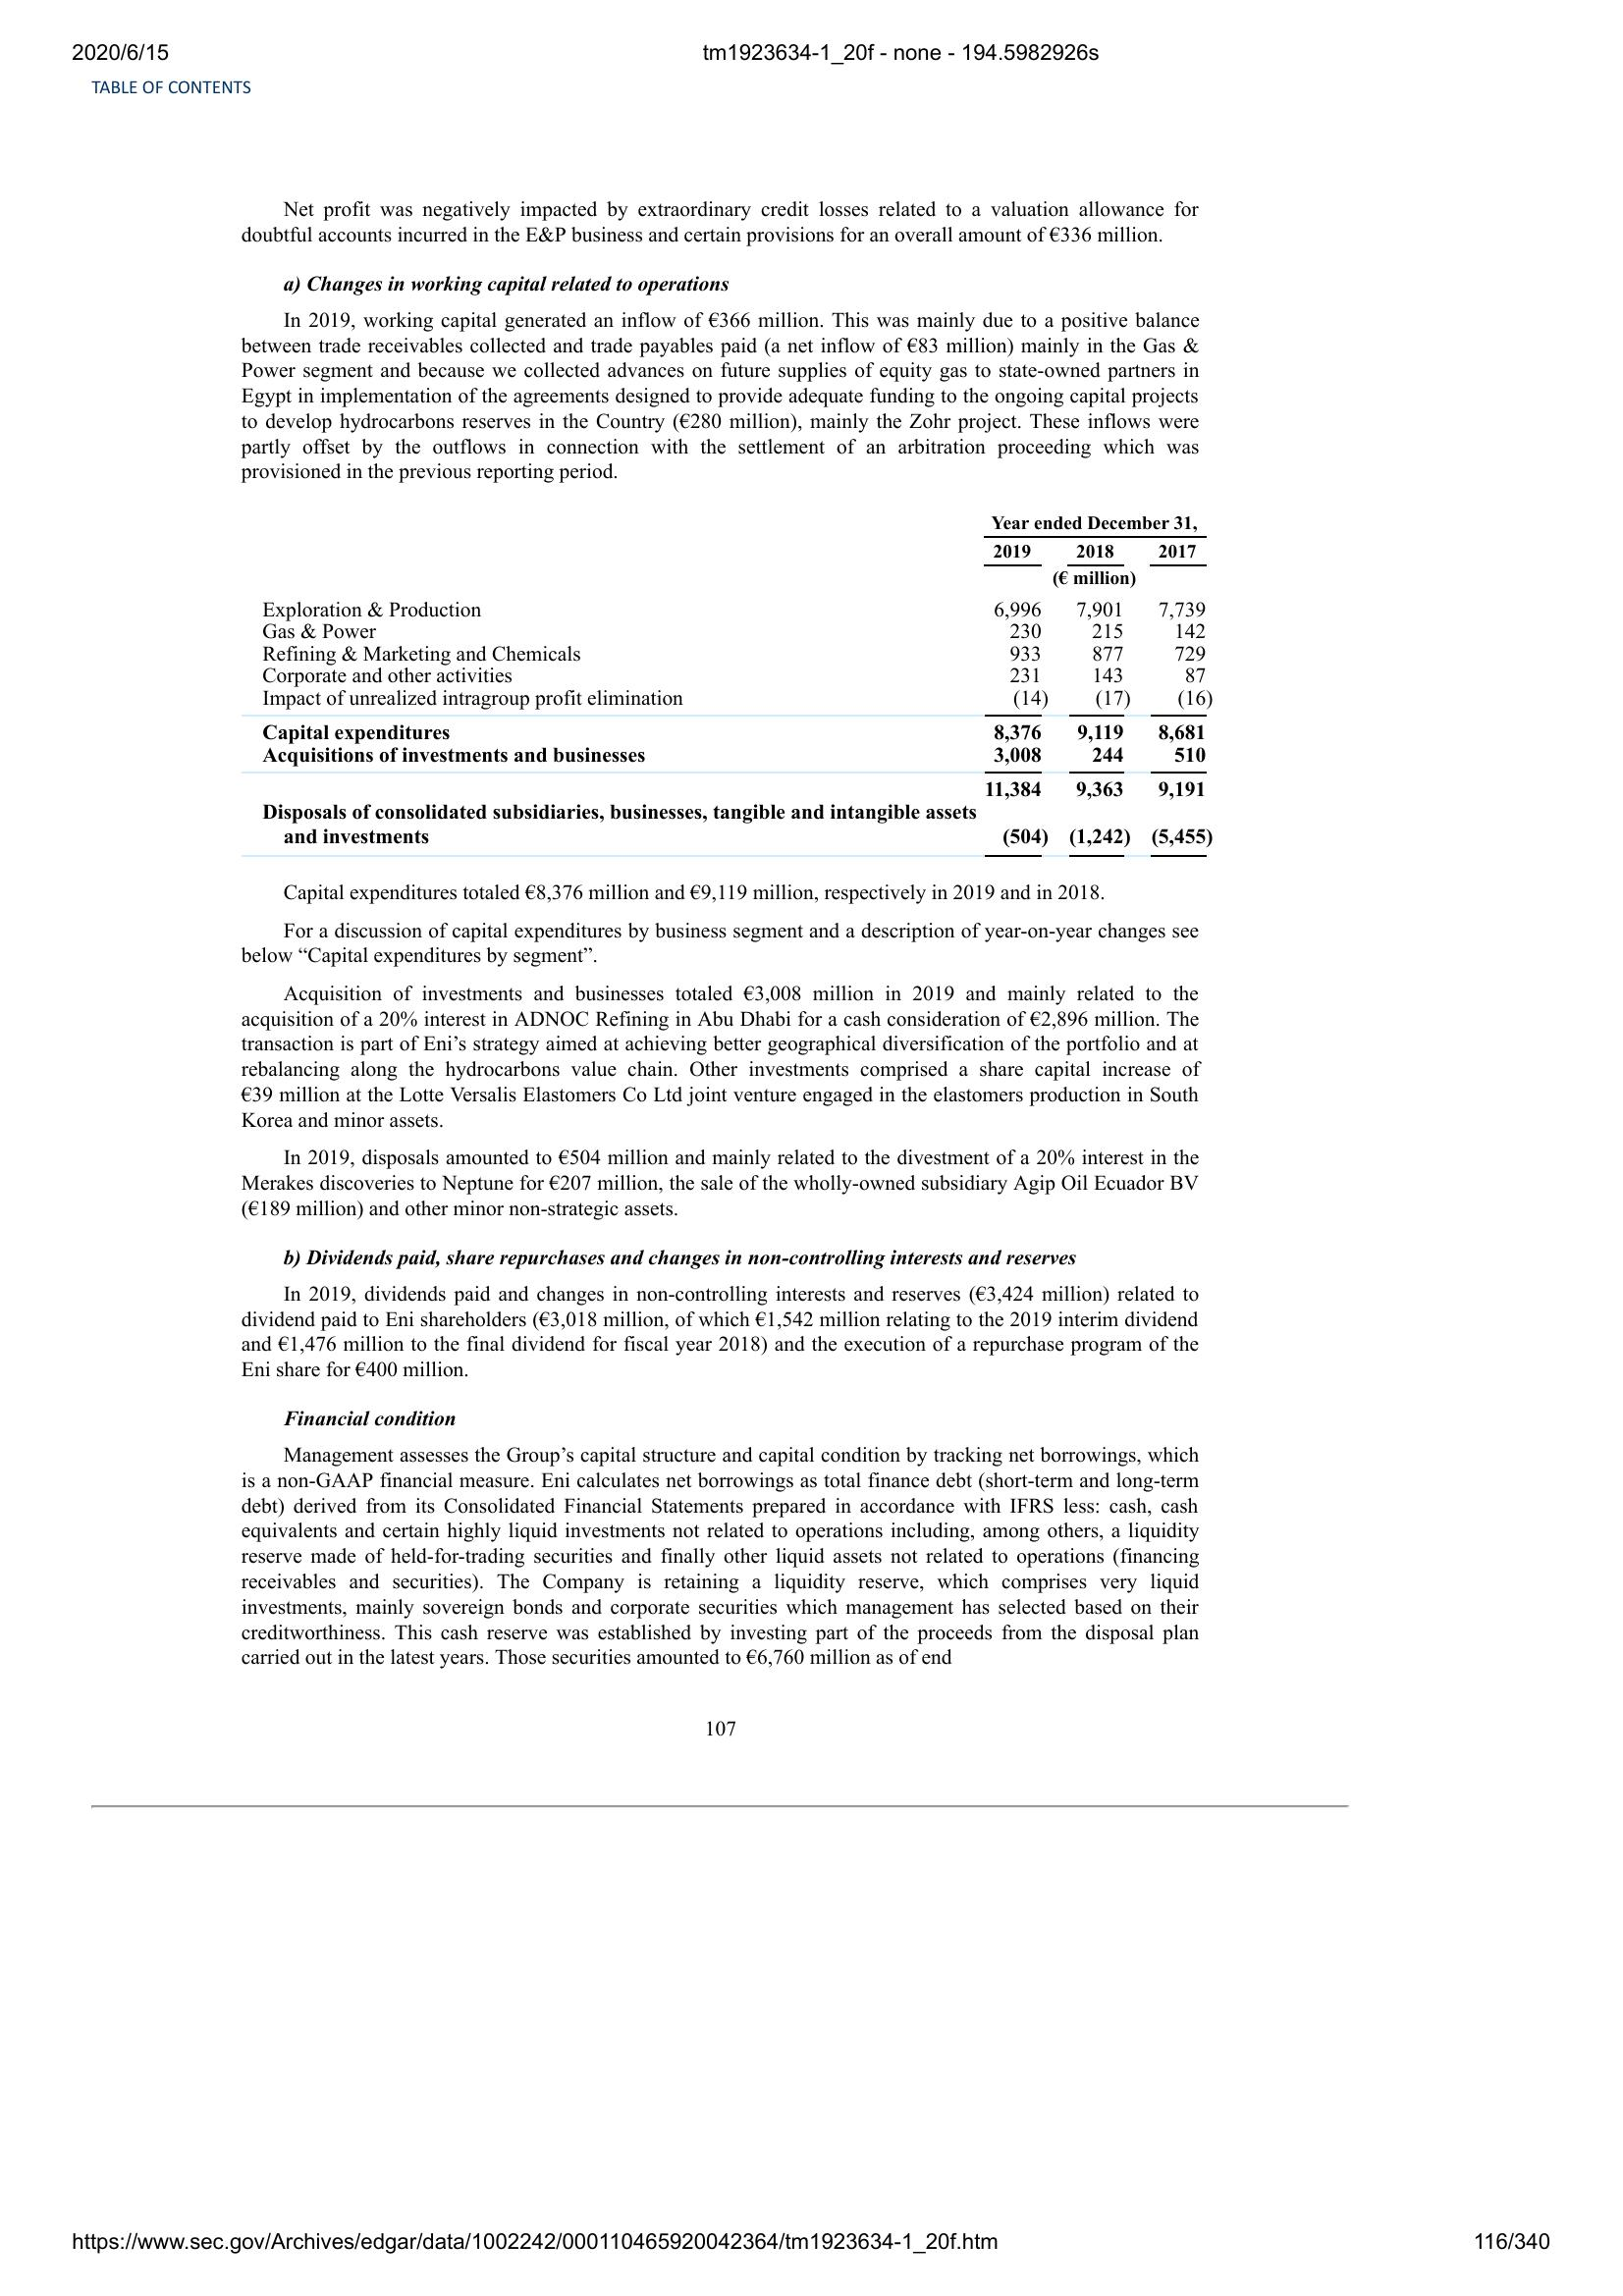table: (260, 513, 1215, 869)
